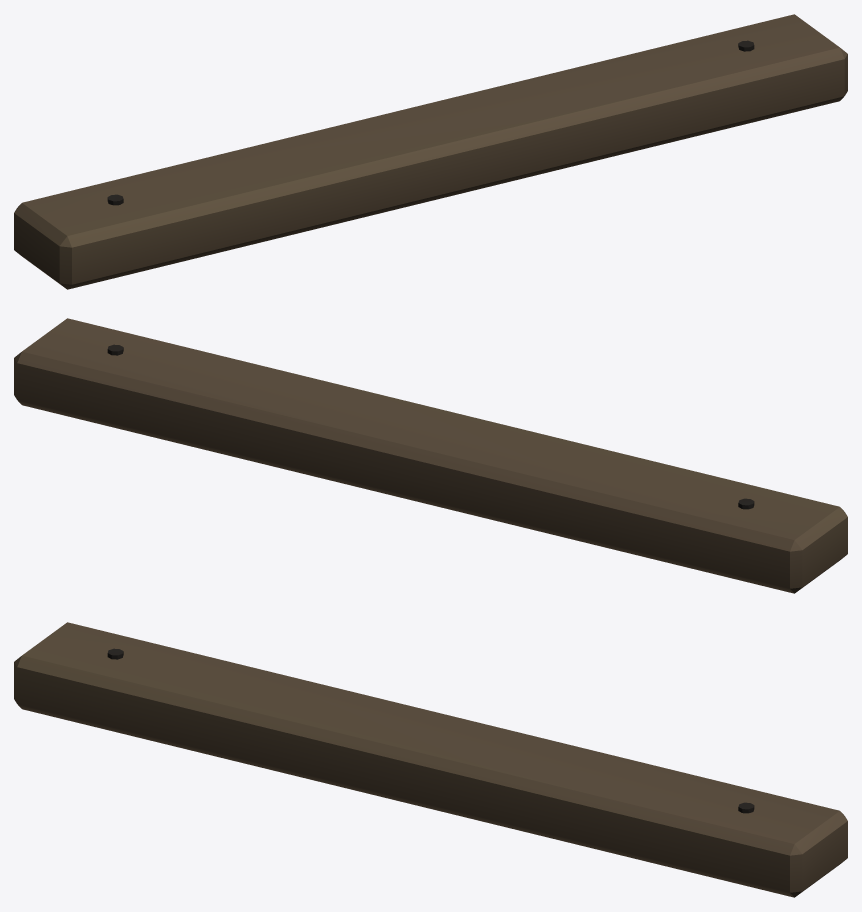
File: boat_launch_wheel_stop.glb
The picture shows the model from 3 angles, top to bottom: view 1: azimuth 30°, elevation 25°; view 2: azimuth 150°, elevation 25°; view 3: azimuth 330°, elevation 25°; orthographic projection.
Parts seen in each view (by area): view 1: boat_launch_wheel_stop_LOD0; view 2: boat_launch_wheel_stop_LOD0; view 3: boat_launch_wheel_stop_LOD0.
Boxes of the visible parts, x1,y1,x2,y2 form: boat_launch_wheel_stop_LOD0: [14, 14, 847, 289]; boat_launch_wheel_stop_LOD0: [14, 318, 847, 593]; boat_launch_wheel_stop_LOD0: [14, 622, 847, 897].
Bounding box in the file's own units: 2 × 0.14 × 0.24.
